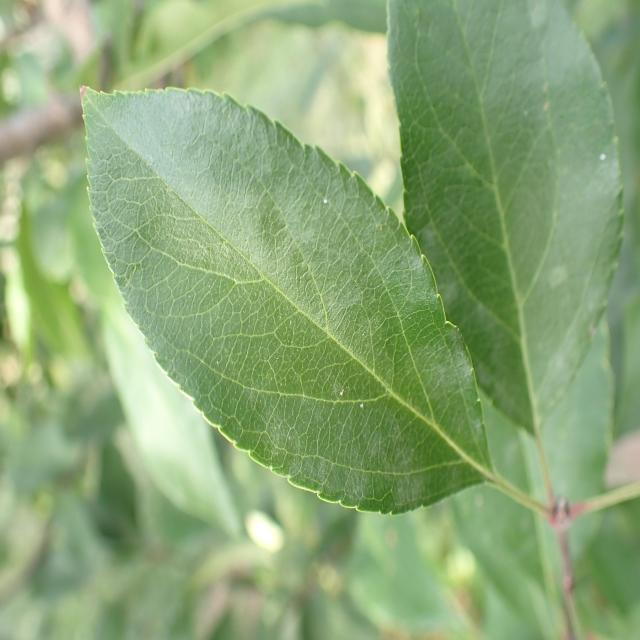Powdery_mildew: (132, 97, 484, 508), (384, 0, 590, 465)
